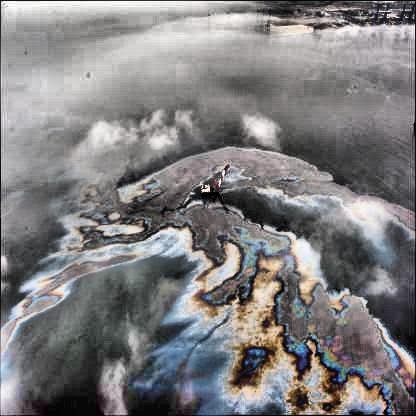truecolor: (1, 147, 365, 368), (173, 202, 416, 416)
